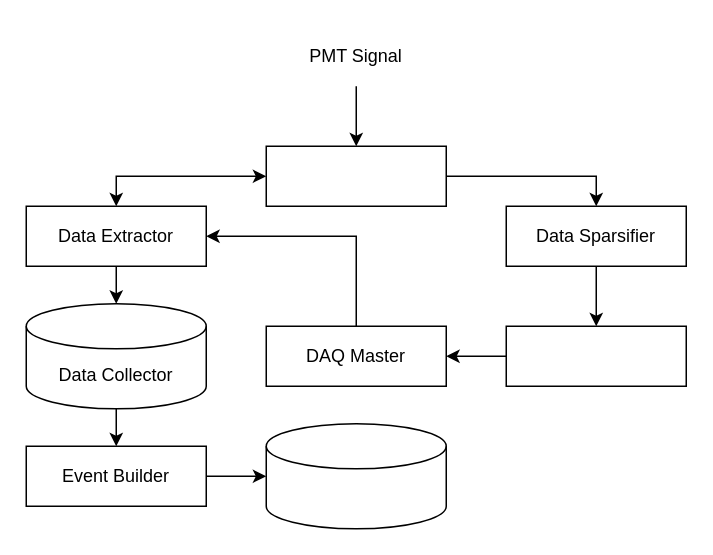
Some shapes in this 713 by 555 pixel diagram are drawn without their labels. Here are the shapes that lost their labels. From the top down, the box of each, then its label:
(265, 145, 446, 206): DDC-32 Digitizer
(505, 325, 686, 386): Data Sparsifier Master
(265, 422, 446, 529): Offline Storage
